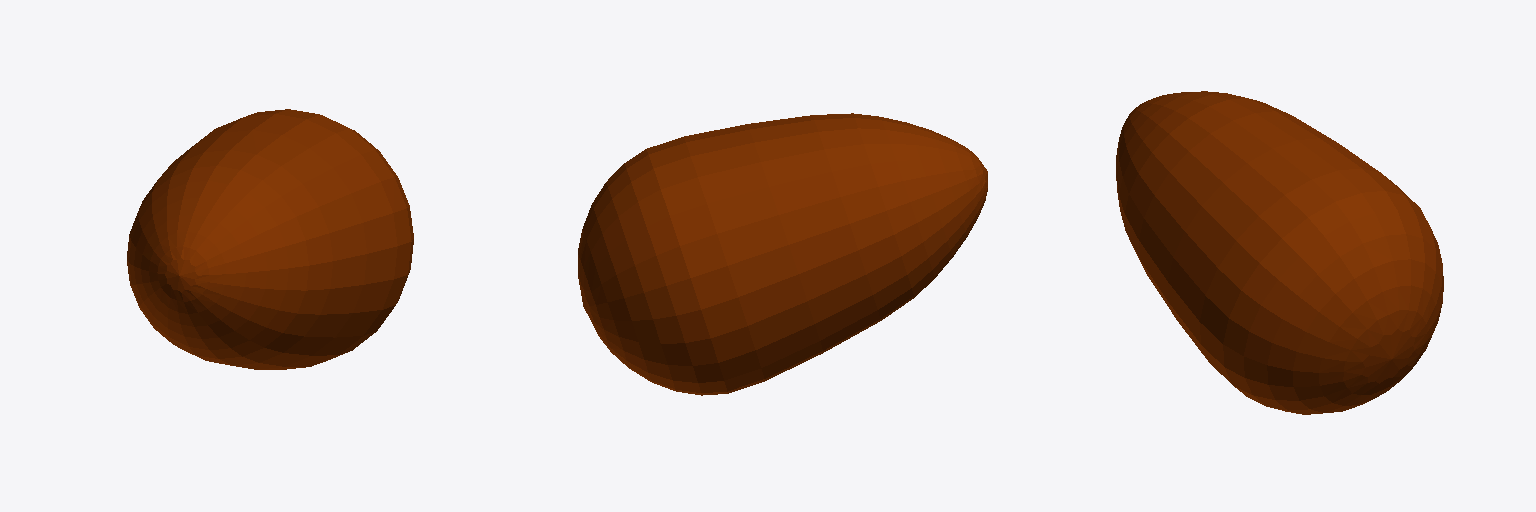
File: galbi_meat.obj
3 renders of one model, left to right at view 1: azimuth 30°, elevation 25°; view 2: azimuth 150°, elevation 25°; view 3: azimuth 270°, elevation 25°, orthographic.
Visible parts, largest first — view 1: OilTank001; view 2: OilTank001; view 3: OilTank001.
Part boxes in pixels (left/top/right/bottom): OilTank001: left=127, top=109, right=413, bottom=369; OilTank001: left=578, top=113, right=987, bottom=395; OilTank001: left=1116, top=91, right=1443, bottom=414.
Size of the model in its own units: 3.93 by 2.99 by 3.57.